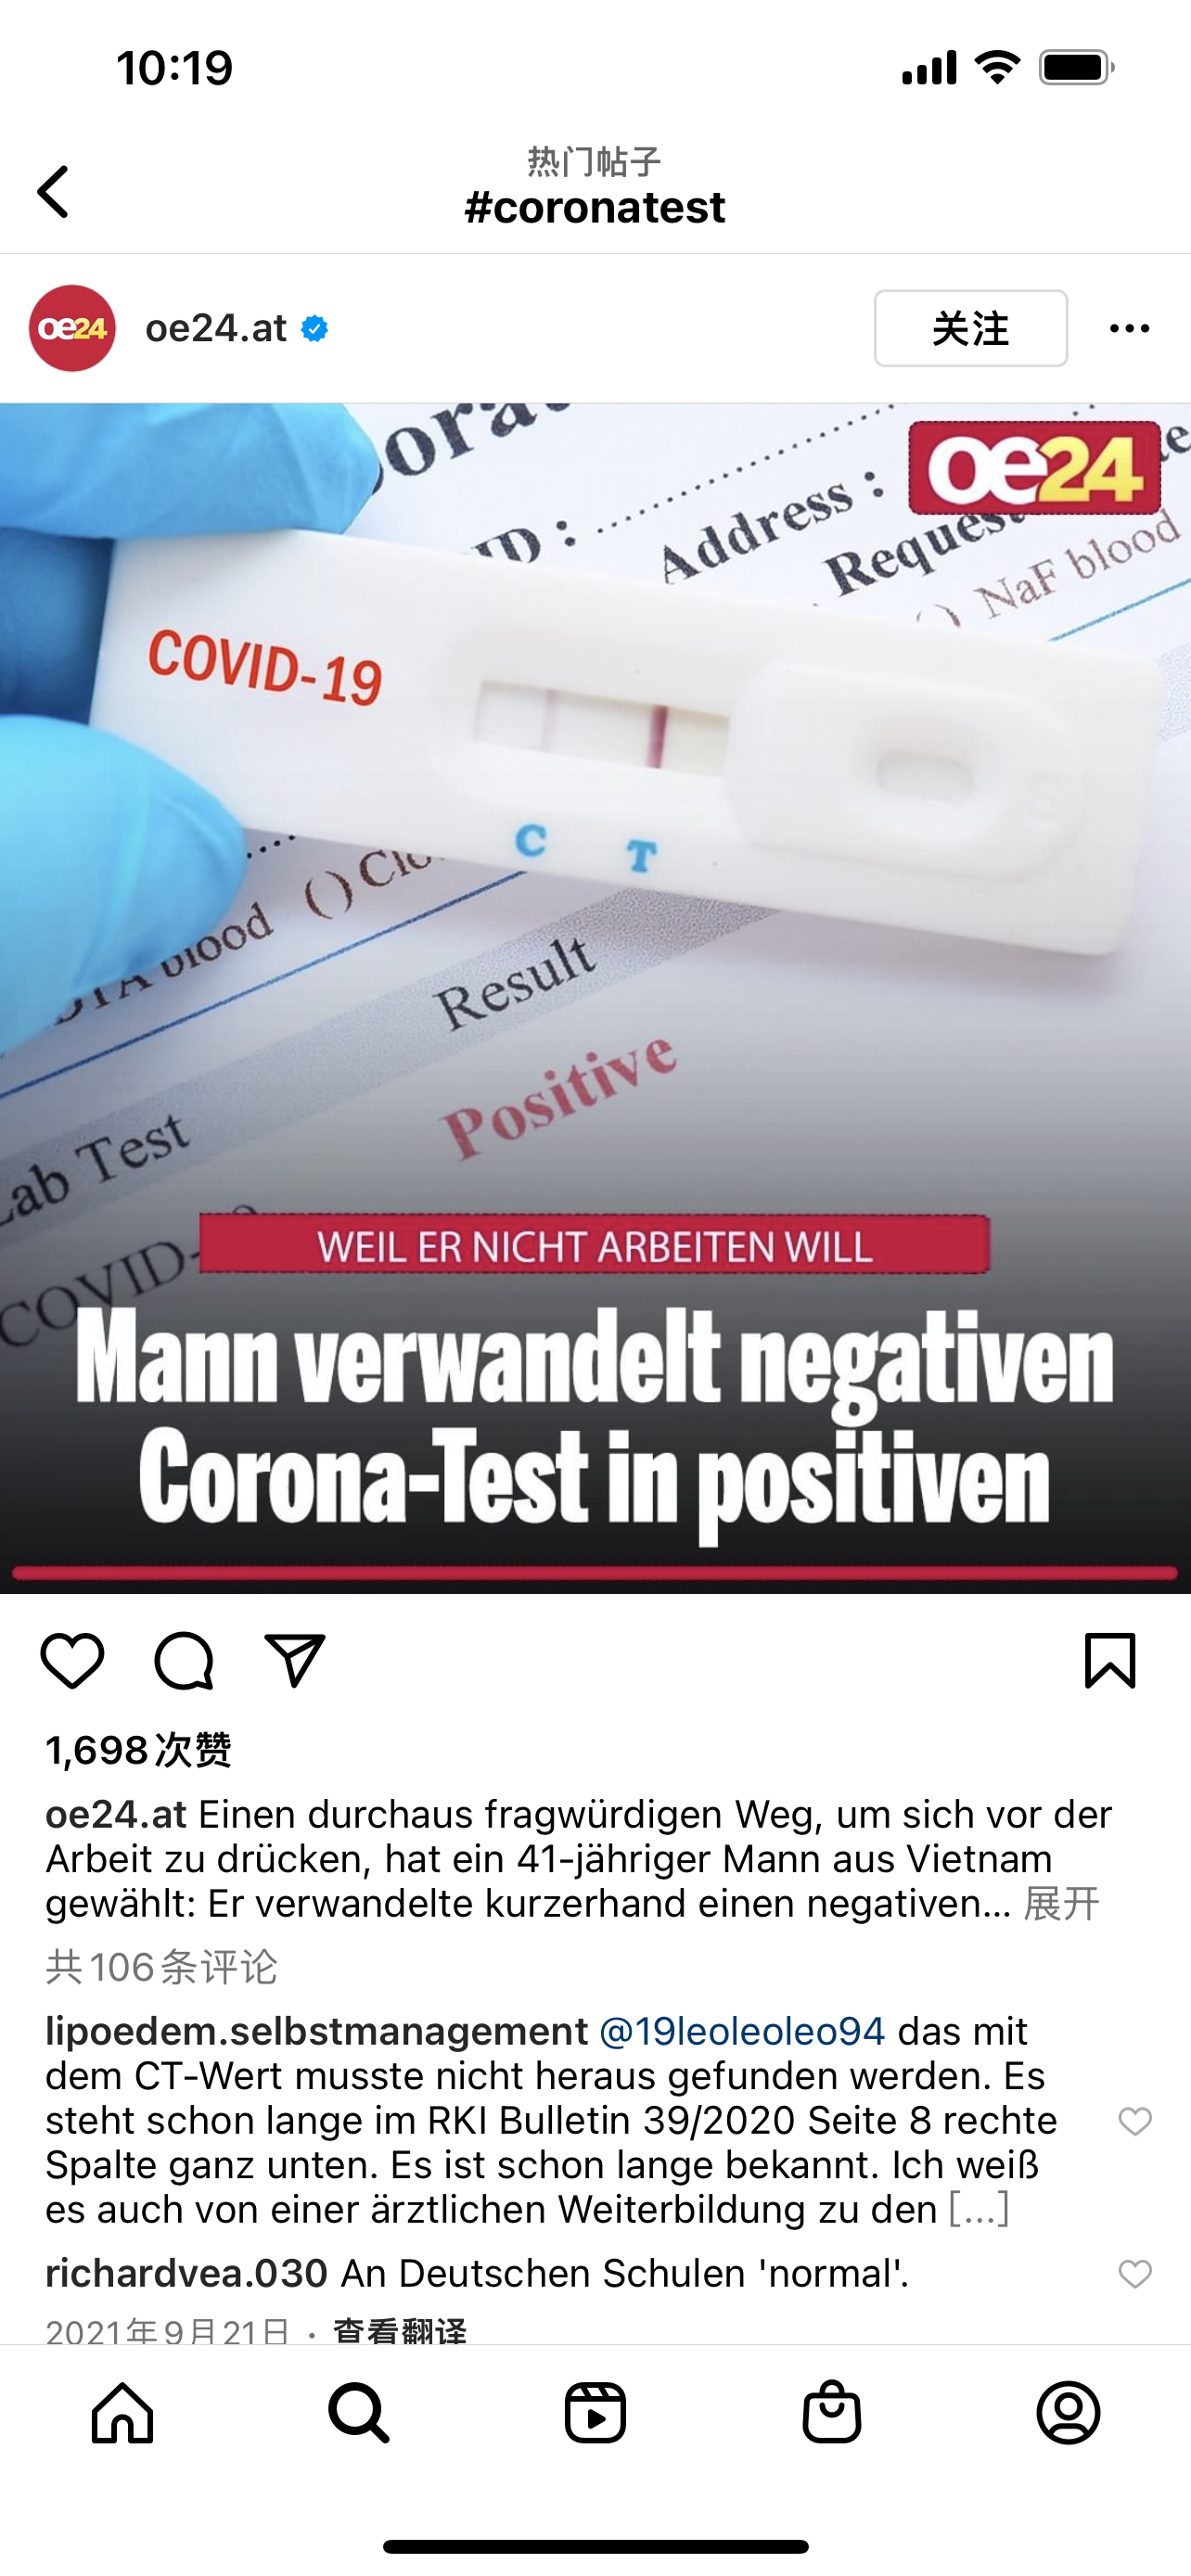positive: (442, 674, 729, 790)
